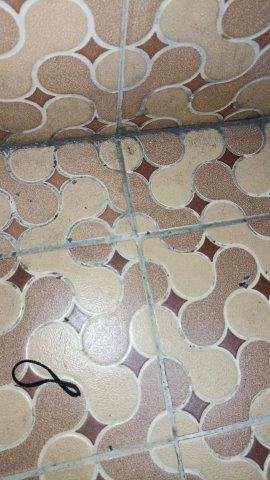karet: (12, 360, 80, 397)
